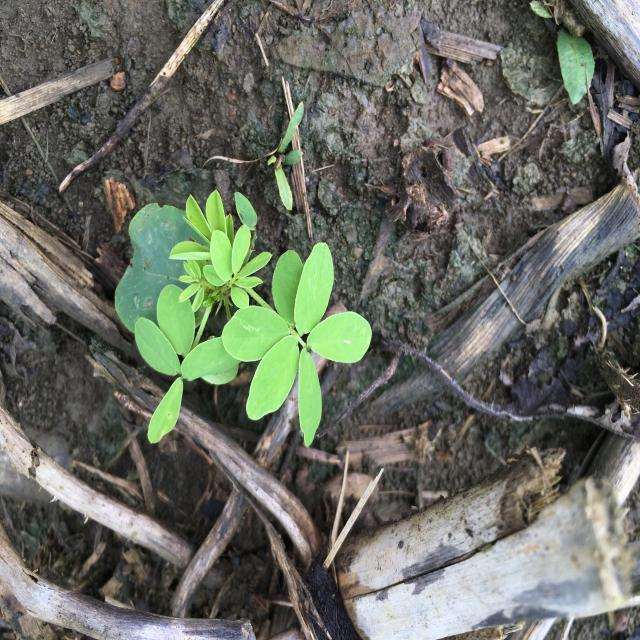Sicklepod: (114, 190, 373, 448)
